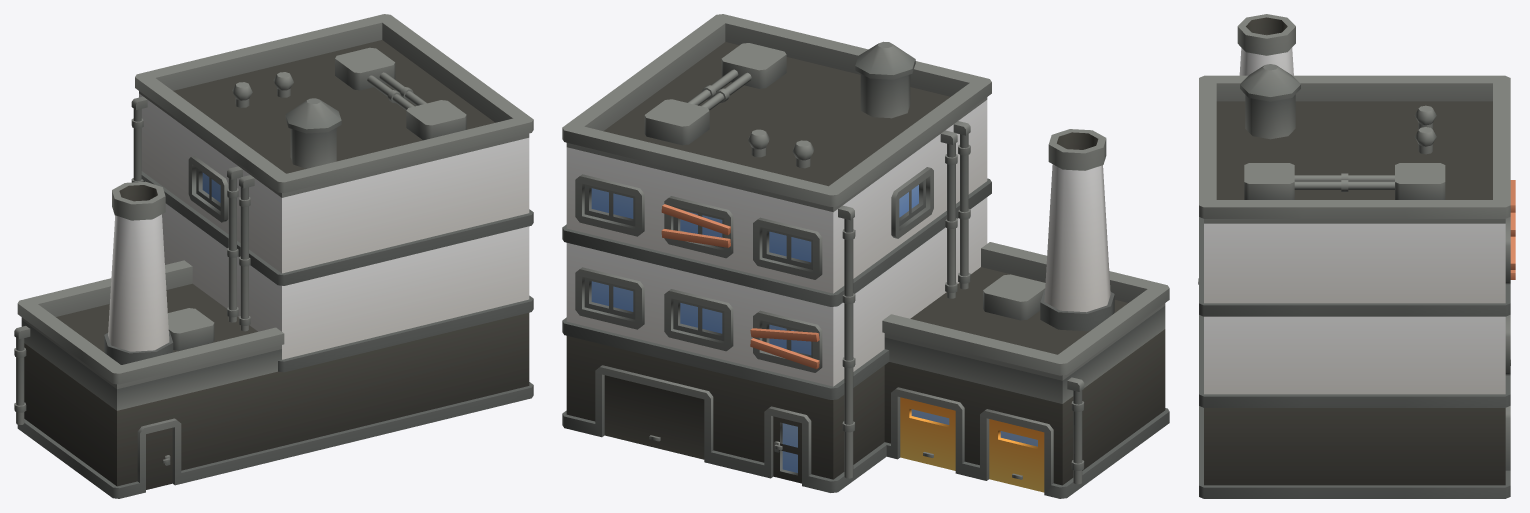
File: ind-building-b.glb
3 renders of one model, left to right at view 1: azimuth 30°, elevation 25°; view 2: azimuth 150°, elevation 25°; view 3: azimuth 270°, elevation 25°, orthographic. The views are drawn at different scales.
Parts seen in each view (by area): view 1: building-b; view 2: building-b; view 3: building-b.
Boxes of the visible parts, x1=… form: building-b: x1=14, y1=14, x2=533, y2=498; building-b: x1=562, y1=14, x2=1169, y2=498; building-b: x1=1198, y1=14, x2=1515, y2=498.
Size of the model in its own units: 2.08 by 1.47 by 1.26.
1 material, 1 textured.
